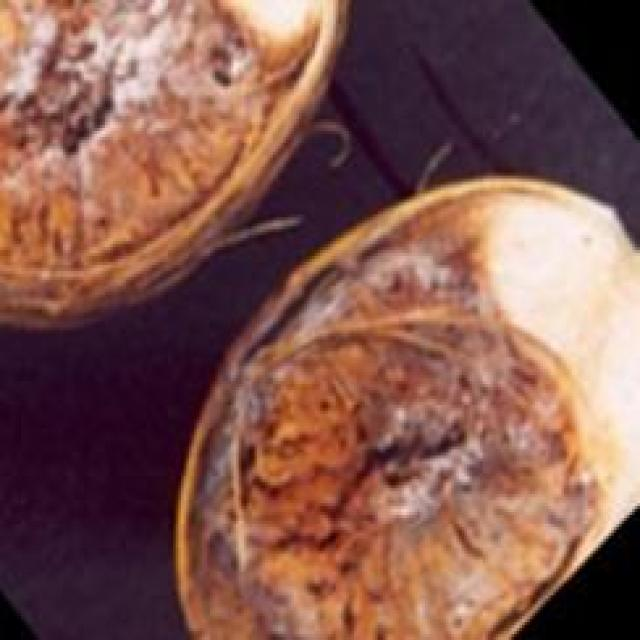damaged: (176, 182, 637, 637)
